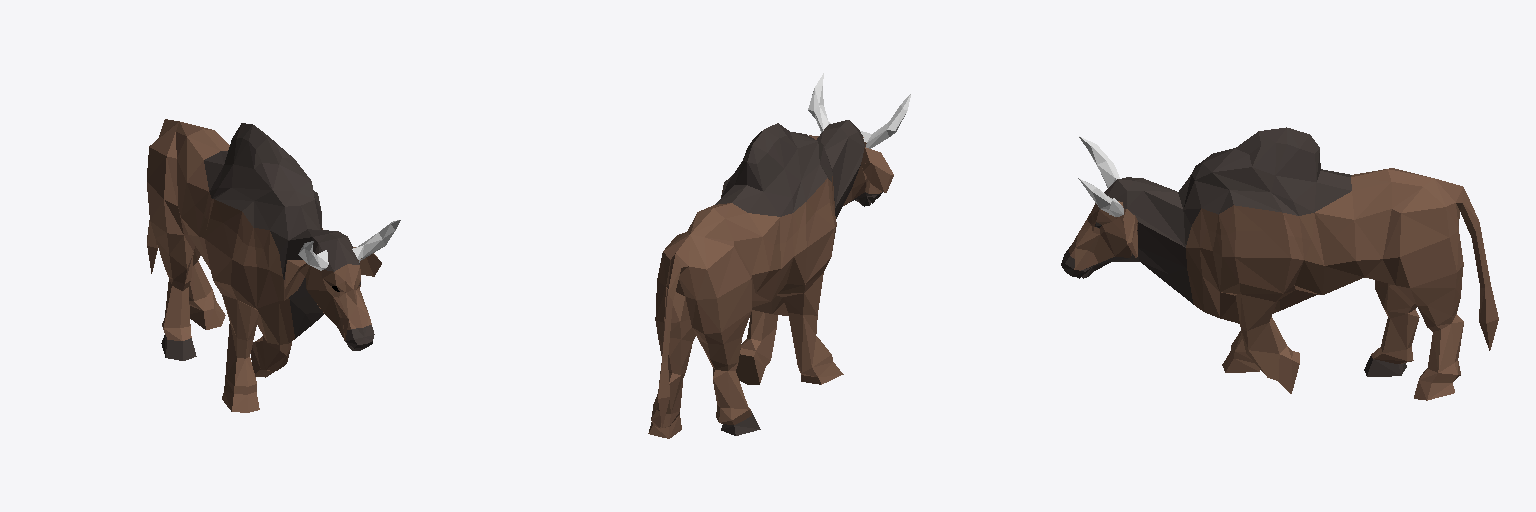
3 views of the same model, side by side, from view 1: azimuth 30°, elevation 25°; view 2: azimuth 150°, elevation 25°; view 3: azimuth 270°, elevation 25° (orthographic).
Visible parts, largest first — view 1: Mesh1FBXASC032Model; view 2: Mesh1FBXASC032Model; view 3: Mesh1FBXASC032Model.
Part boxes in pixels (left/top/right/bottom): Mesh1FBXASC032Model: left=147, top=119, right=400, bottom=412; Mesh1FBXASC032Model: left=648, top=73, right=910, bottom=438; Mesh1FBXASC032Model: left=1061, top=127, right=1498, bottom=400.
Bounding box in the file's own units: 247 × 610 × 939.
Materials: 1 (1 with a texture image).